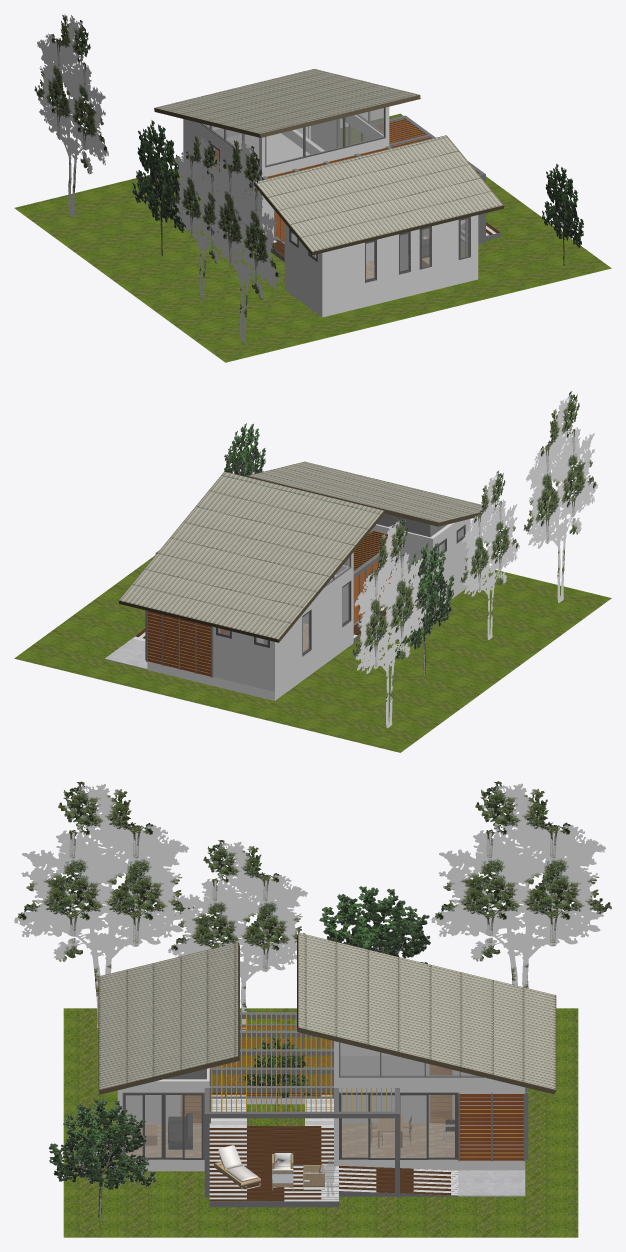
Rendered from SCG+Vacation+Home+#1+-+Natural+Style+-+ver13 (1).glb.
The picture shows the model from 3 angles, top to bottom: view 1: azimuth 30°, elevation 25°; view 2: azimuth 150°, elevation 25°; view 3: azimuth 270°, elevation 25°; orthographic projection. The views are drawn at different scales.
Parts seen in each view (by area): view 1: Geom3D_ (×11), Geom3D (×7), Geom3D_Component#18, Geom3D_Component#20, Geom3D_Component#19; view 2: Geom3D (×9), Geom3D_ (×10), Geom3D_Component#20, Geom3D_Component#19, Geom3D_Component#18; view 3: Geom3D (×24), Geom3D_ (×11), Geom3D_Component#19, Geom3D_Component#15.
Part boxes in pixels (x1,y1,x2,y2): Geom3D_ (×11): (14,108,611,362); Geom3D (×7): (34,14,583,343); Geom3D_Component#18: (311,205,504,255); Geom3D_Component#20: (260,95,420,137); Geom3D_Component#19: (154,108,260,137); Geom3D (×9): (119,391,597,728); Geom3D_ (×10): (14,519,611,752); Geom3D_Component#20: (119,600,279,642); Geom3D_Component#19: (278,511,384,641); Geom3D_Component#18: (247,476,439,526); Geom3D (×24): (14,781,611,1217); Geom3D_ (×11): (63,1008,578,1237); Geom3D_Component#19: (297,1027,555,1094); Geom3D_Component#15: (99,1056,239,1094).
Size of what is drawn, in the model's own units: 21.84 by 10.98 by 24.06.
102 materials, 80 textured.
